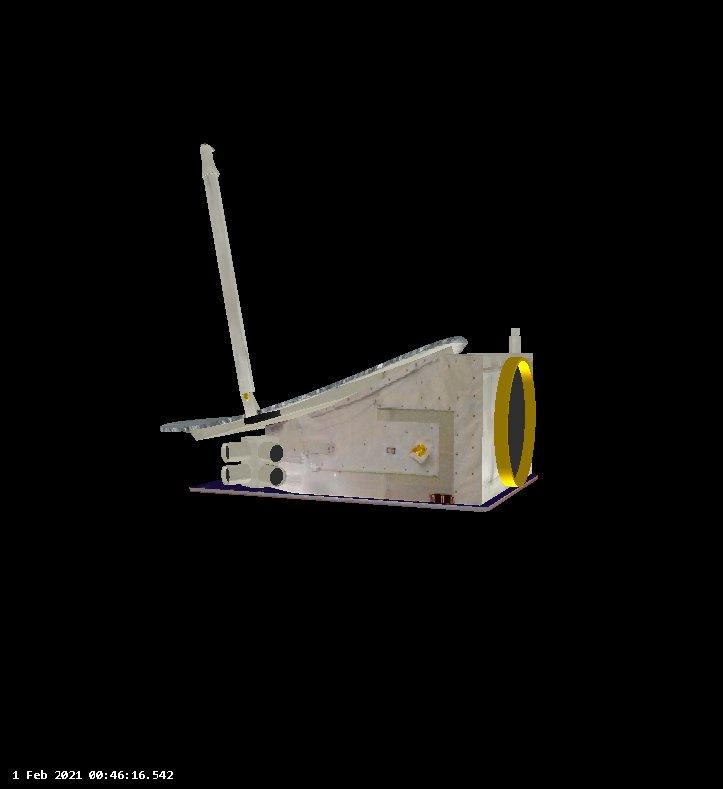antenna: (156, 142, 471, 442)
body: (261, 349, 537, 507)
solar: (189, 472, 542, 515)
thruster: (489, 354, 540, 489), (219, 443, 255, 464), (220, 465, 253, 487), (268, 443, 285, 464), (270, 469, 287, 488)
